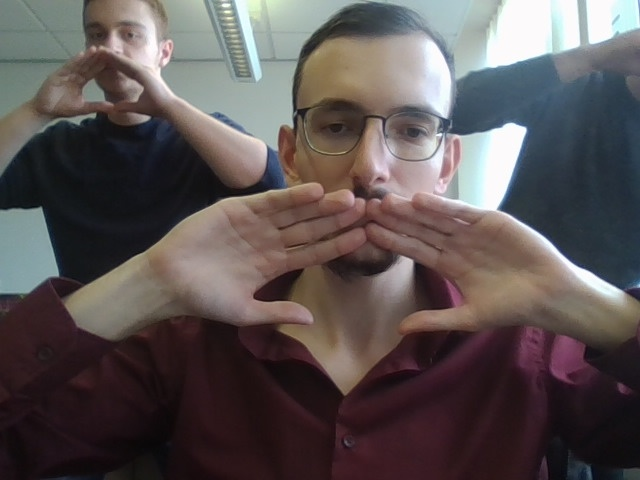thankyou: (150, 180, 550, 331), (33, 44, 160, 120)
